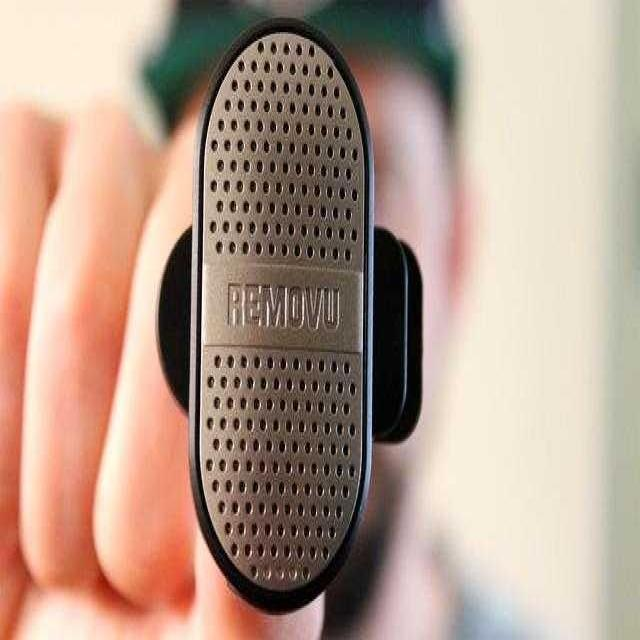microphone: (158, 14, 422, 610)
